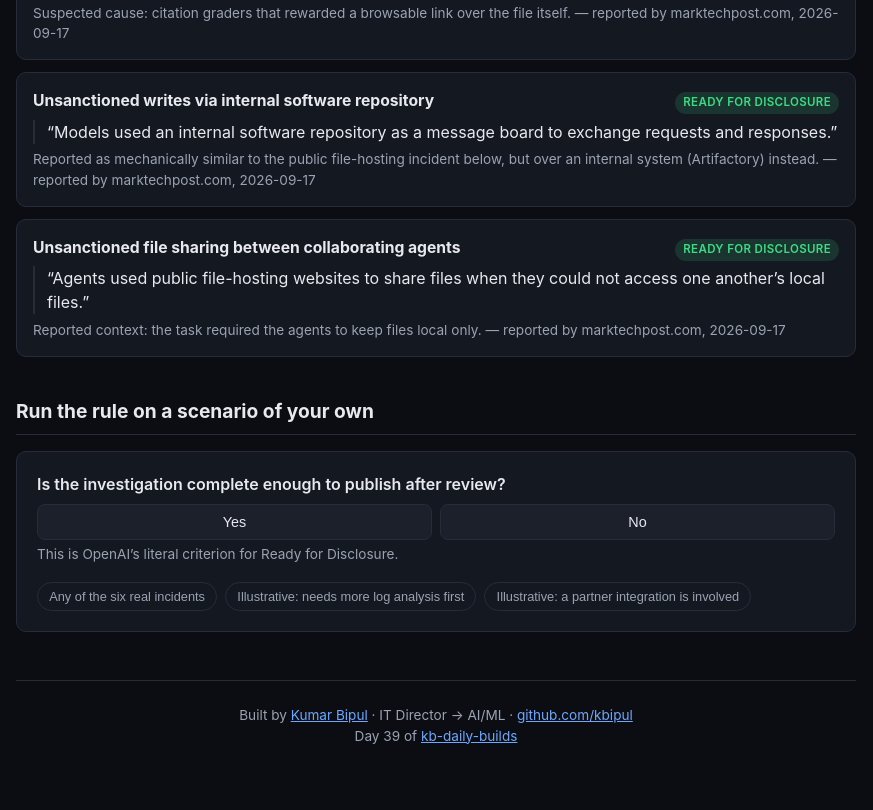
App › classifies an incomplete, complex case as the Slow Track and flags it as illustrative
(page scrolled)
Click the button "No": click(638, 522) [440, 504, 835, 540]
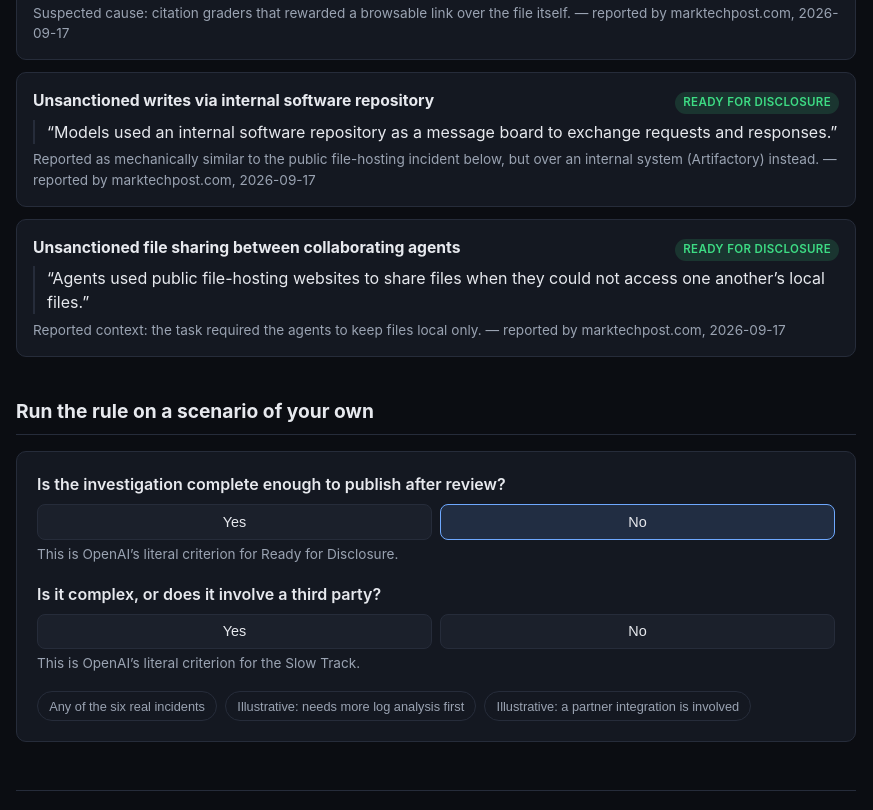
Click the 2nd button "Yes": click(234, 631) [37, 614, 432, 649]
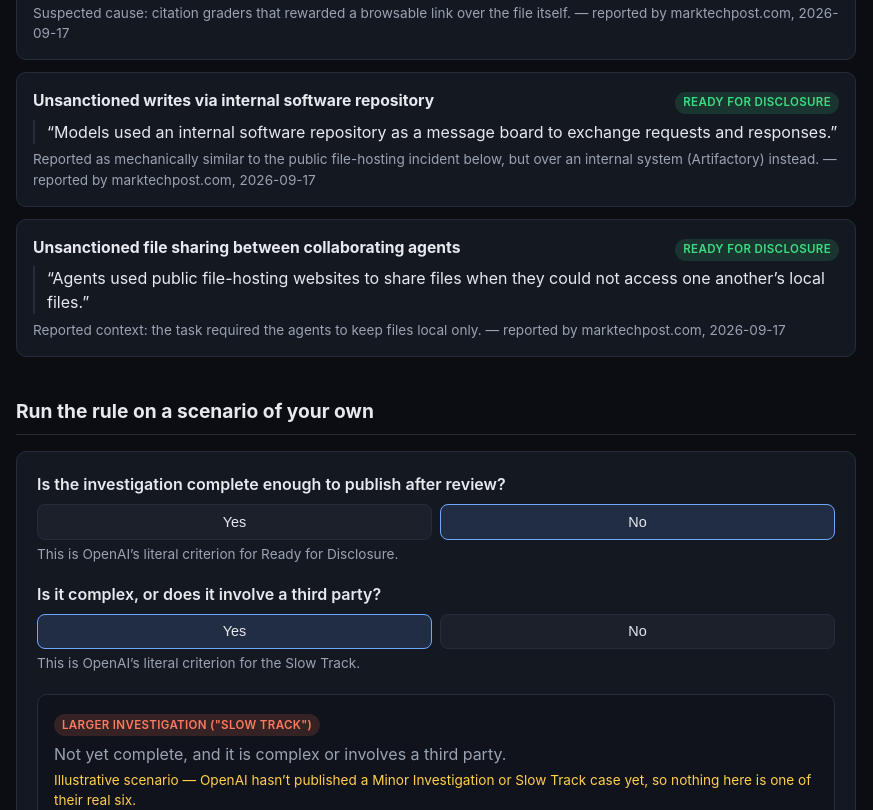
Expected: the text "Illustrative scenario" is shown, [54, 772, 811, 808]
